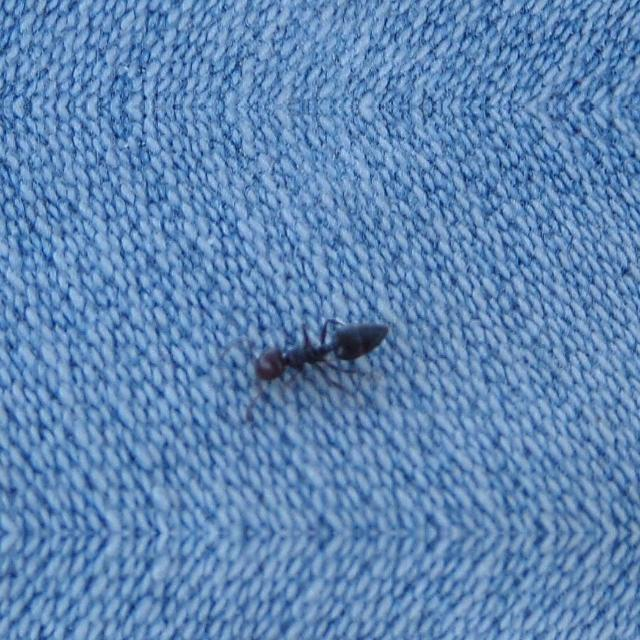Crematogaster: (240, 314, 394, 388)
